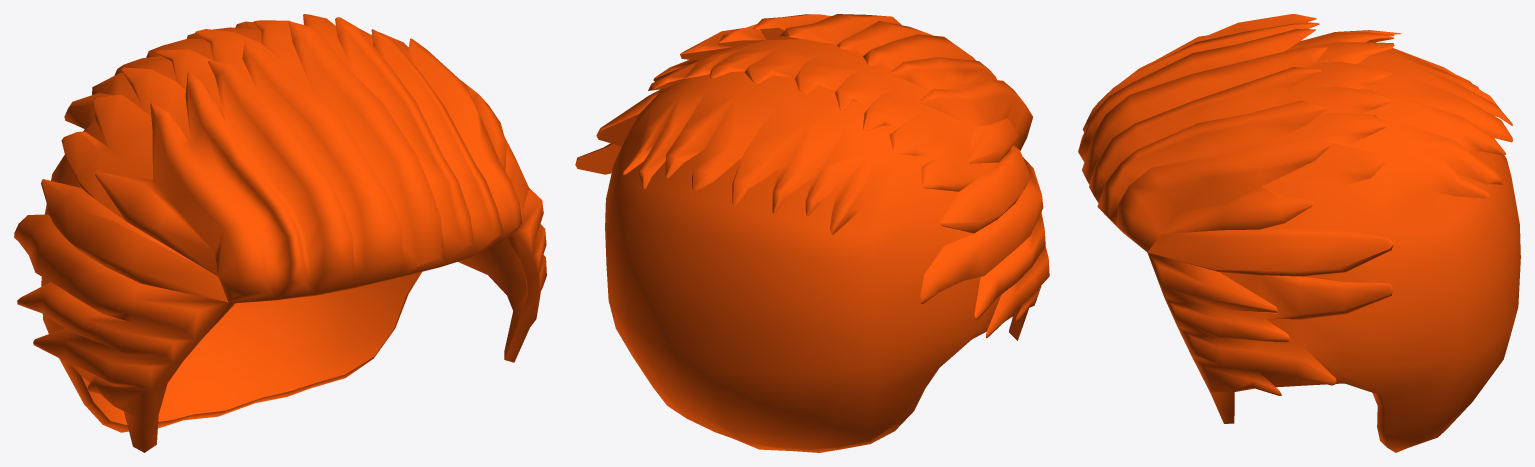
The model's file is Hair_13_06.fbx.
The picture shows the model from 3 angles, left to right: view 1: azimuth 30°, elevation 25°; view 2: azimuth 150°, elevation 25°; view 3: azimuth 270°, elevation 25°; orthographic projection. The views are drawn at different scales.
Parts seen in each view (by area): view 1: Hair_13_06; view 2: Hair_13_06; view 3: Hair_13_06.
Part boxes in pixels (x1,y1,x2,y2): Hair_13_06: [14, 14, 546, 452]; Hair_13_06: [575, 14, 1049, 452]; Hair_13_06: [1078, 14, 1520, 452].
Bounding box in the file's own units: 41.2 × 37.07 × 38.65.
